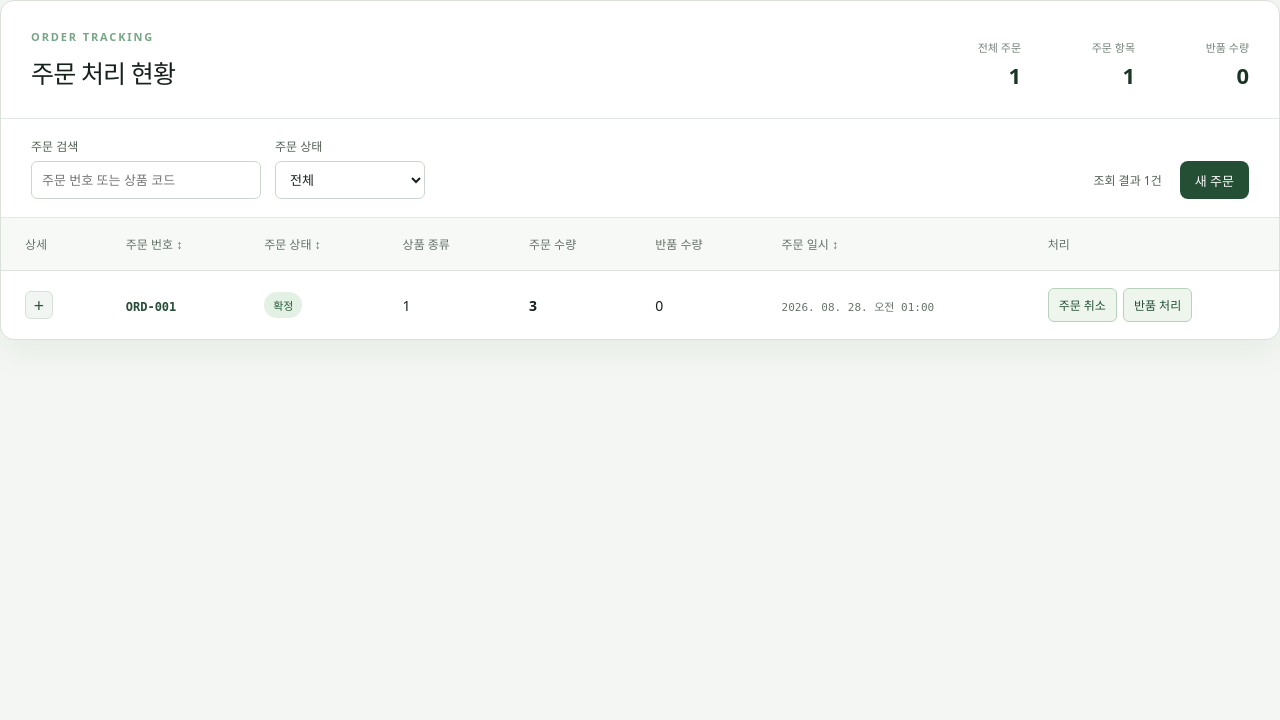
Test: OrderPage › 확정 주문의 일부 반품 수량을 전송하고 주문 목록을 갱신한다
Click the button with aria-label "ORD-001 반품 처리".
click(1158, 305)  # box x1=1123 y1=288 x2=1192 y2=322
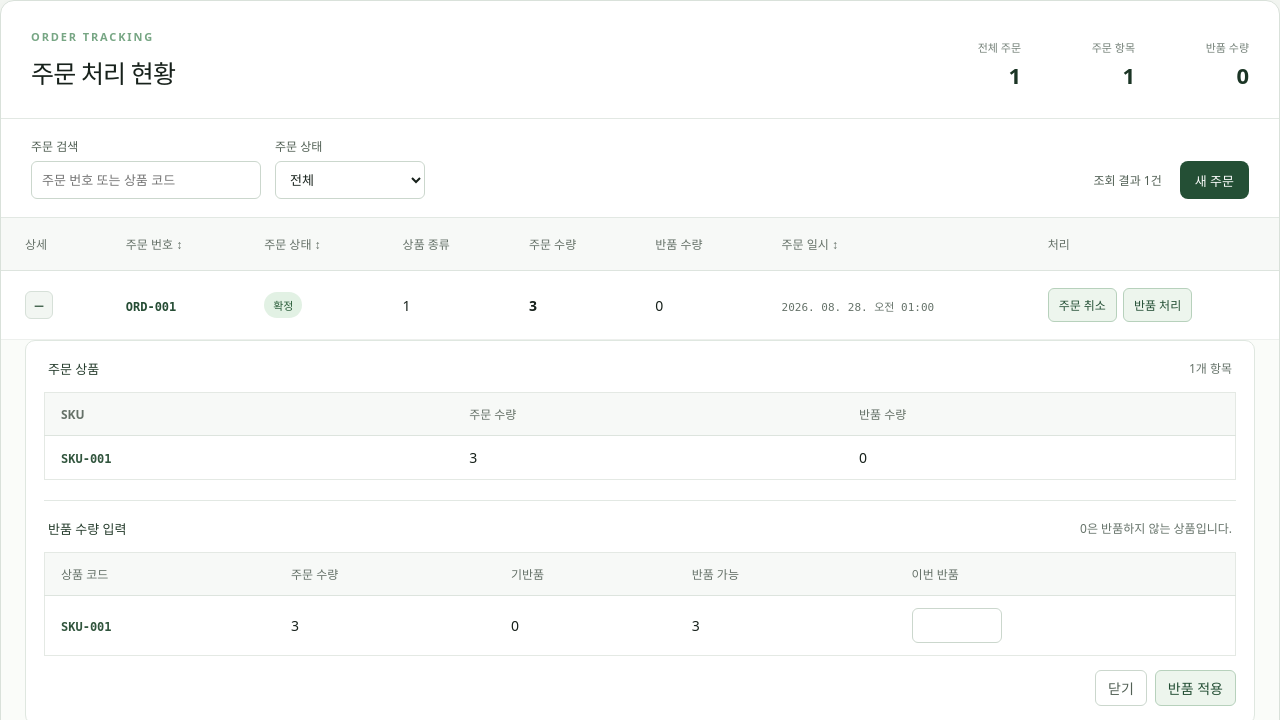
Type "1" into the number field named "SKU-001 반품 수량".
click(957, 626); type("1")  # box x1=912 y1=608 x2=1002 y2=643
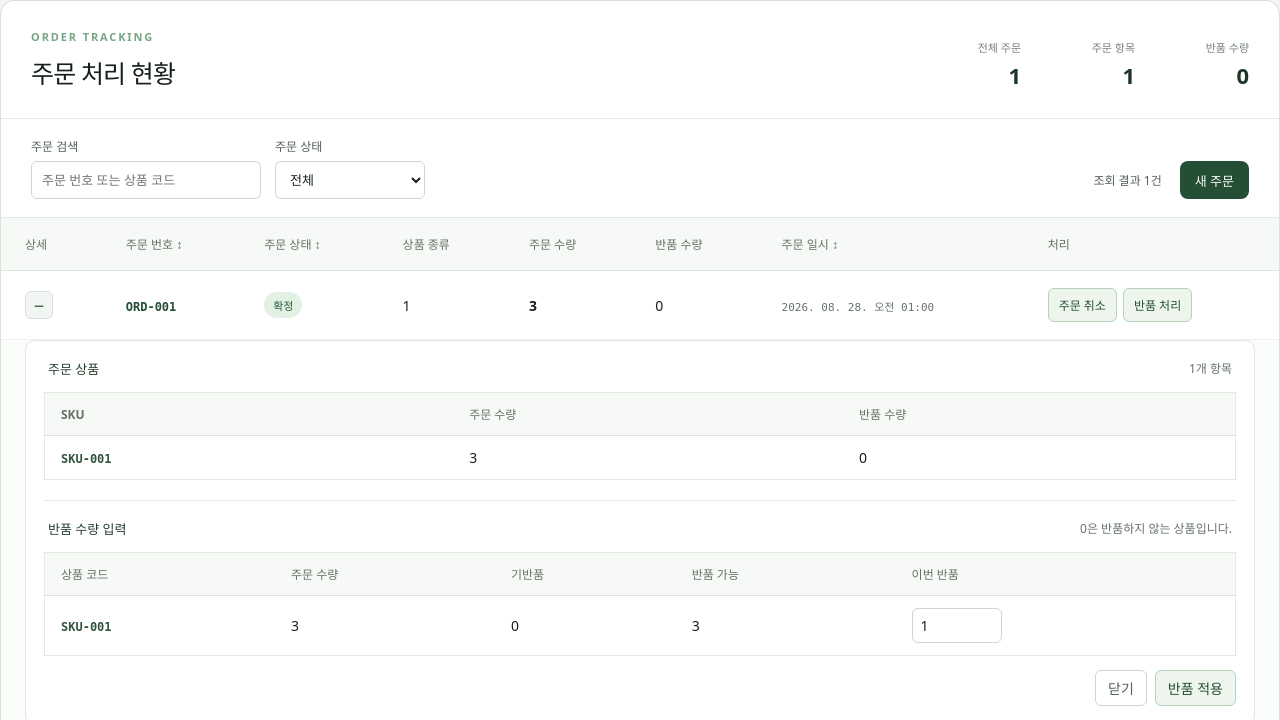
Click the button "반품 적용".
click(1195, 688)  # box x1=1155 y1=670 x2=1236 y2=706
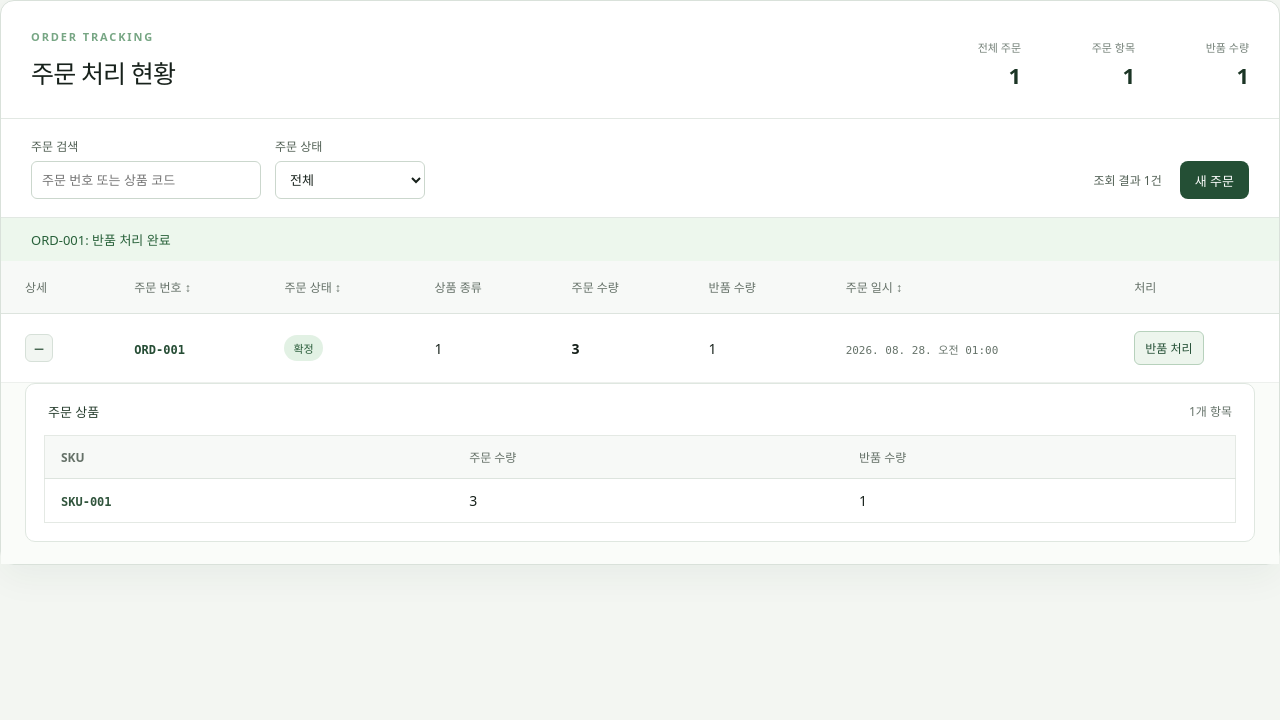
Expected: the button with aria-label "ORD-001 반품 처리" is shown, x1=1134 y1=331 x2=1204 y2=365
Expected: the text "ORD-001: 반품 처리 완료" is shown, x1=1 y1=218 x2=1279 y2=261
